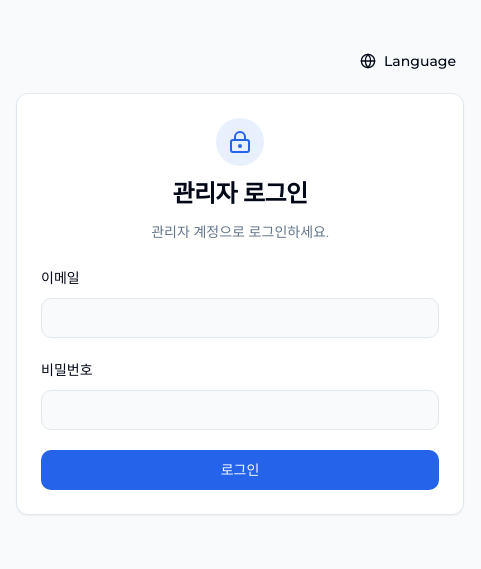
it: Admin login form › Given action error invalid_credentials When submitting Then it translates and focuses the error
Type "admin@example.com" into the field labelled "이메일". click: (240, 318)
box: [41,298,439,338]
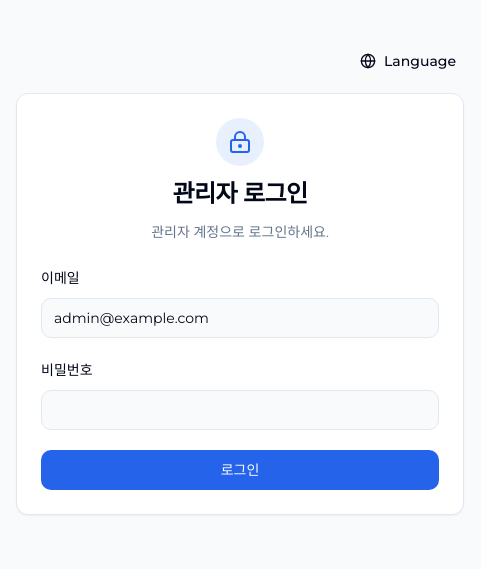
Type "secret-password" into the password field labelled "비밀번호". click: (240, 410)
box: [41,390,439,430]
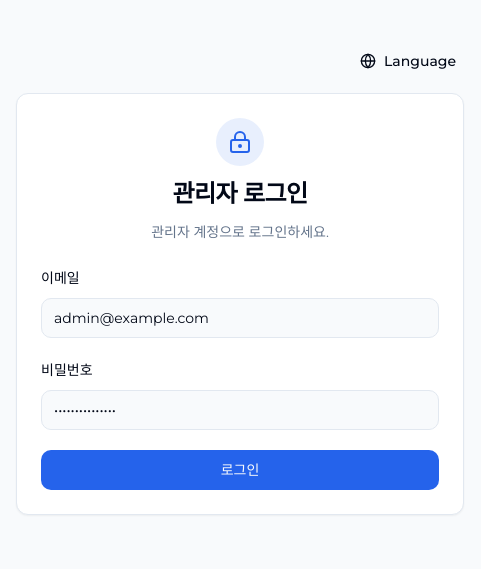
Click the button "로그인". click: click(240, 470)
box: [41,450,439,490]
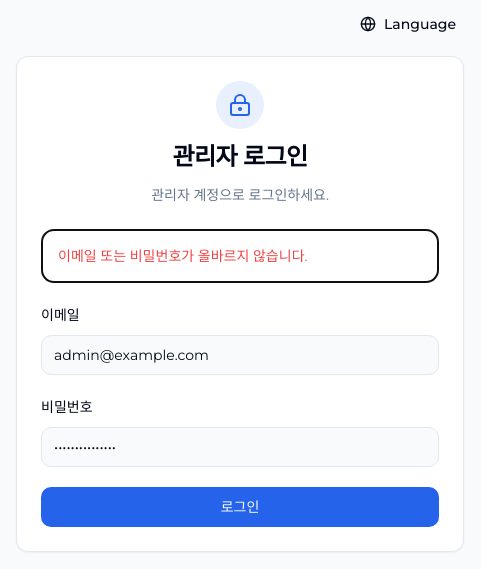
Result: the message reads "이메일 또는 비밀번호가 올바르지 않습니다." at [58,247,308,265]
